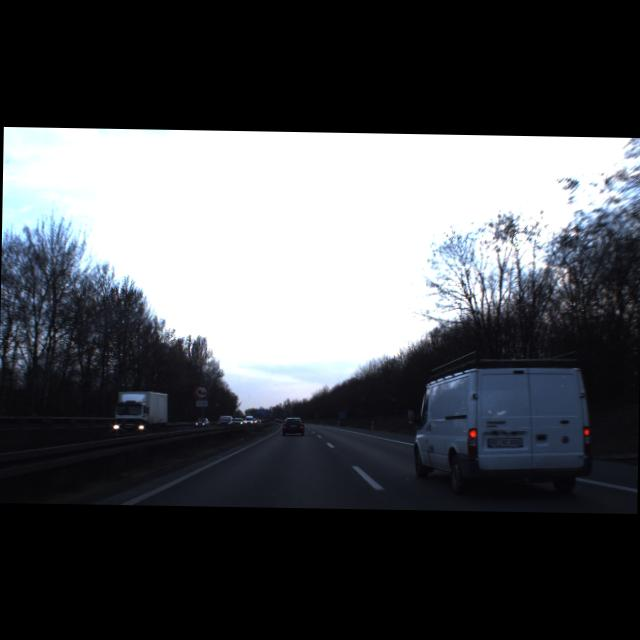prohibitory: (192, 384, 209, 401)
